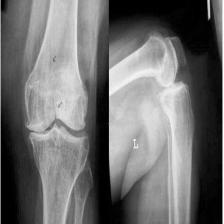hairline-fracture: (0, 0, 208, 224)
